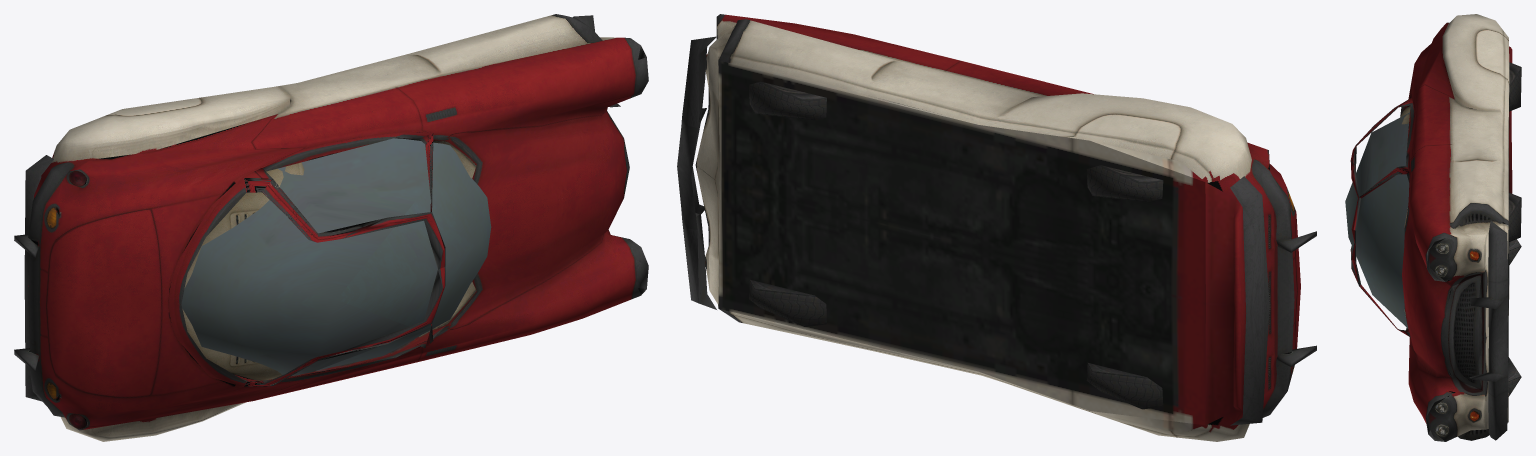
Rendered from nt_2020_car_02_LOD3.obj.
The picture shows the model from 3 angles, left to right: view 1: azimuth 30°, elevation 25°; view 2: azimuth 150°, elevation 25°; view 3: azimuth 270°, elevation 25°; orthographic projection. The views are drawn at different scales.
Visible parts, largest first — view 1: mtl_nt_2020_car_02_exterior, com_glass_clear, mtl_nt_2020_car_02_interior; view 2: mtl_nt_2020_car_02_exterior; view 3: mtl_nt_2020_car_02_exterior, com_glass_clear.
Boxes of the visible parts, box(x1,y1,x2,y2) form: mtl_nt_2020_car_02_exterior: box(14, 14, 648, 441); com_glass_clear: box(181, 138, 491, 376); mtl_nt_2020_car_02_interior: box(182, 137, 476, 381); mtl_nt_2020_car_02_exterior: box(677, 14, 1316, 441); mtl_nt_2020_car_02_exterior: box(1350, 14, 1521, 441); com_glass_clear: box(1345, 112, 1409, 328).
Bounding box in the file's own units: 502 × 246 × 159.
